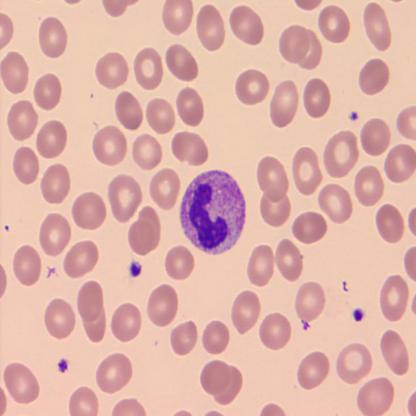Segmented neutrophil: (178, 169, 248, 257)
